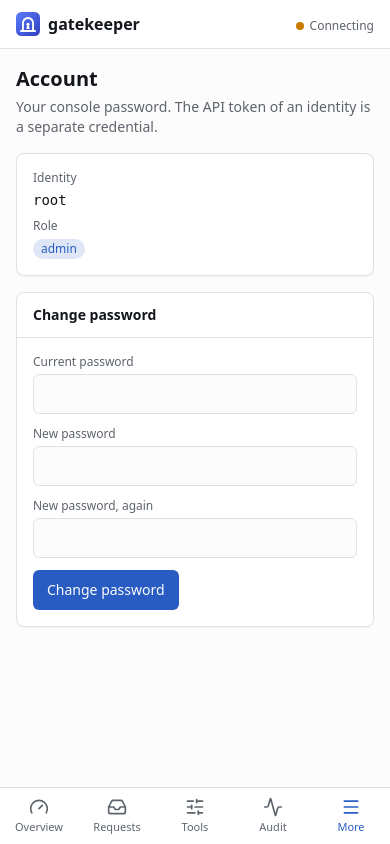
Test: phone navigation › opens every page and Sign out from More, and closes on Escape
Check: the navigation bar named "Tabs" shows "Requests", box [78, 788, 156, 843]
Step 1. Click the button "More" → (351, 816), box [312, 788, 389, 843]
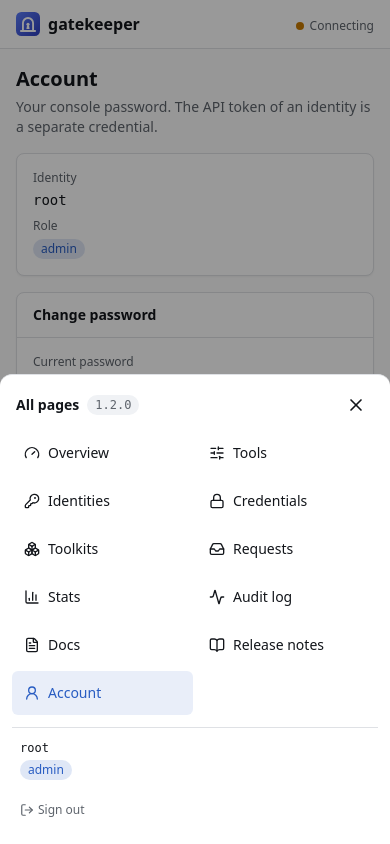
Check: the link "Identities" is shown, box [24, 491, 110, 510]
Check: the link "Credentials" is shown, box [209, 491, 307, 510]
Check: the link "Toolkits" is shown, box [24, 539, 98, 558]
Step 2. Press Escape
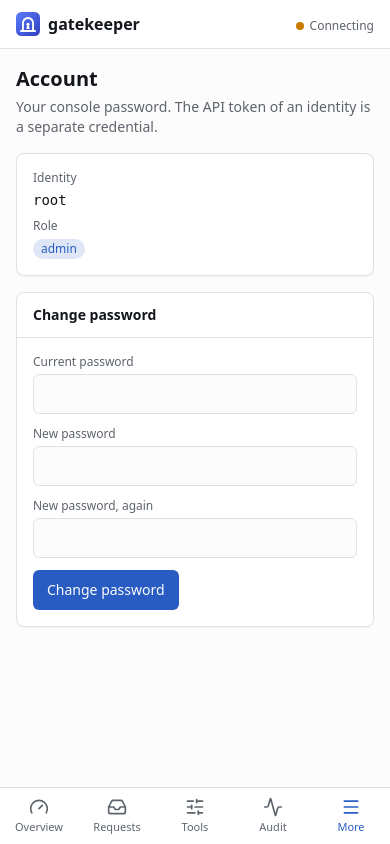
Check: the dialog is gone
